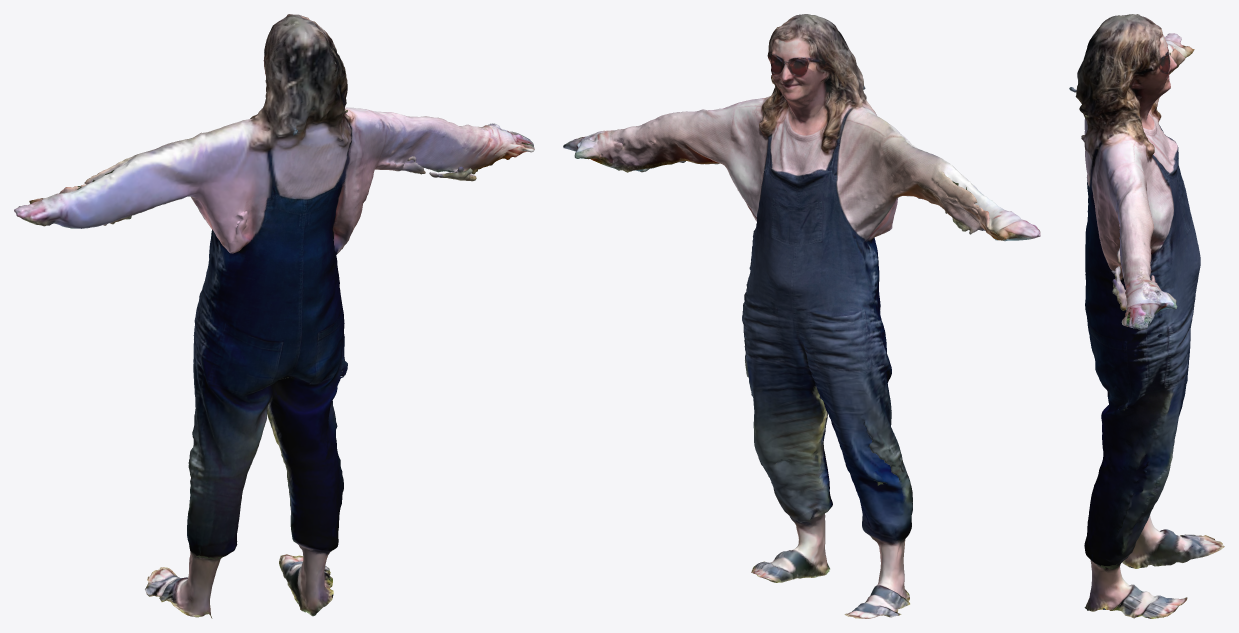
Rendered from meBones_materials.fbx.
The picture shows the model from 3 angles, left to right: view 1: azimuth 30°, elevation 25°; view 2: azimuth 150°, elevation 25°; view 3: azimuth 270°, elevation 25°; orthographic projection. The views are drawn at different scales.
Parts seen in each view (by area): view 1: model; view 2: model; view 3: model.
Boxes of the visible parts, box(x1,y1,x2,y2) form: model: box(14, 14, 534, 618); model: box(563, 14, 1040, 618); model: box(1069, 14, 1224, 618).
Size of the model in its own units: 369 by 409 by 96.35.
